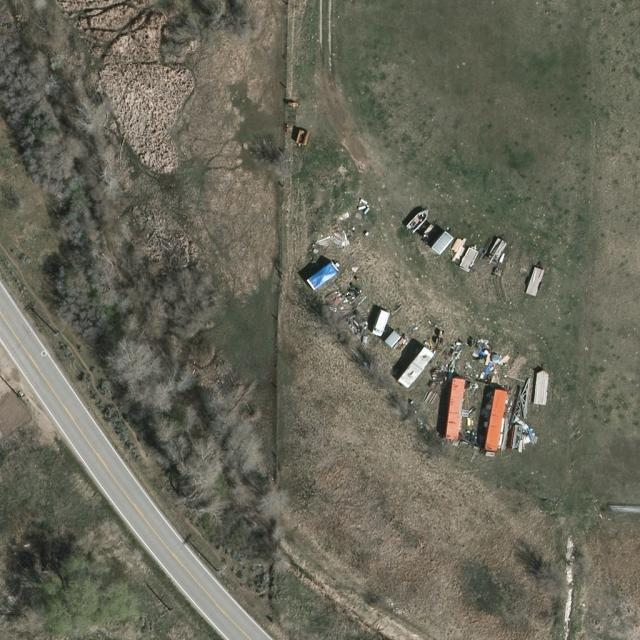vehicle: (374, 310, 390, 340)
